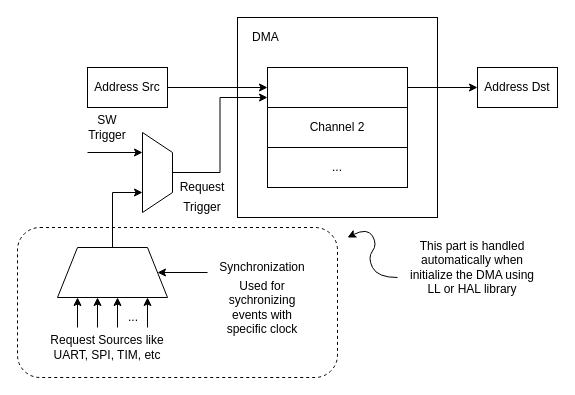
This 575x395 diagram has some shape labels left out. The box of each missing label's shape, as (x1, y1, x2, y2) in pixels:
Channel 1: (266, 66, 408, 108)
DMAMUX: (56, 246, 168, 298)
